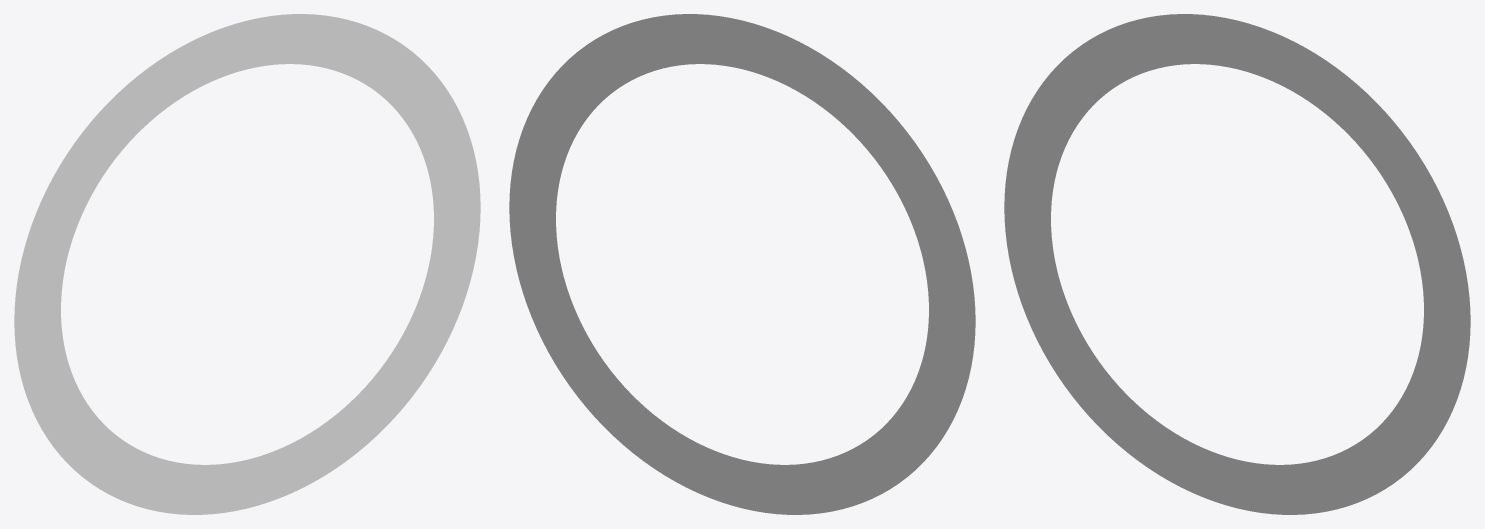
Rendered from LensOuter.obj.
3 renders of one model, left to right at view 1: azimuth 30°, elevation 25°; view 2: azimuth 150°, elevation 25°; view 3: azimuth 330°, elevation 25°, orthographic.
Parts seen in each view (by area): view 1: LensOuter; view 2: LensOuter; view 3: LensOuter.
Boxes of the visible parts, bbox=[...] form: LensOuter: bbox=[14, 14, 480, 514]; LensOuter: bbox=[509, 14, 975, 514]; LensOuter: bbox=[1004, 14, 1470, 514].
Size of the model in its own units: 52 by 52 by 0.
Materials: 1 (1 with a texture image).
